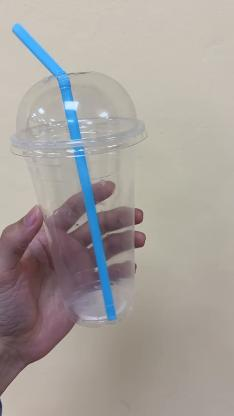Plastic Cup: (10, 69, 150, 323)
